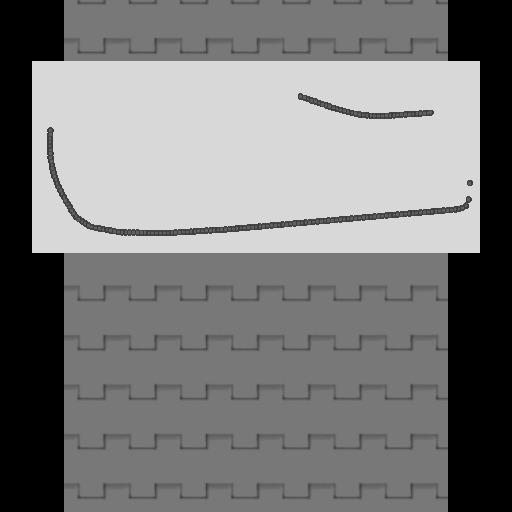Defect: (48, 88, 299, 130)
